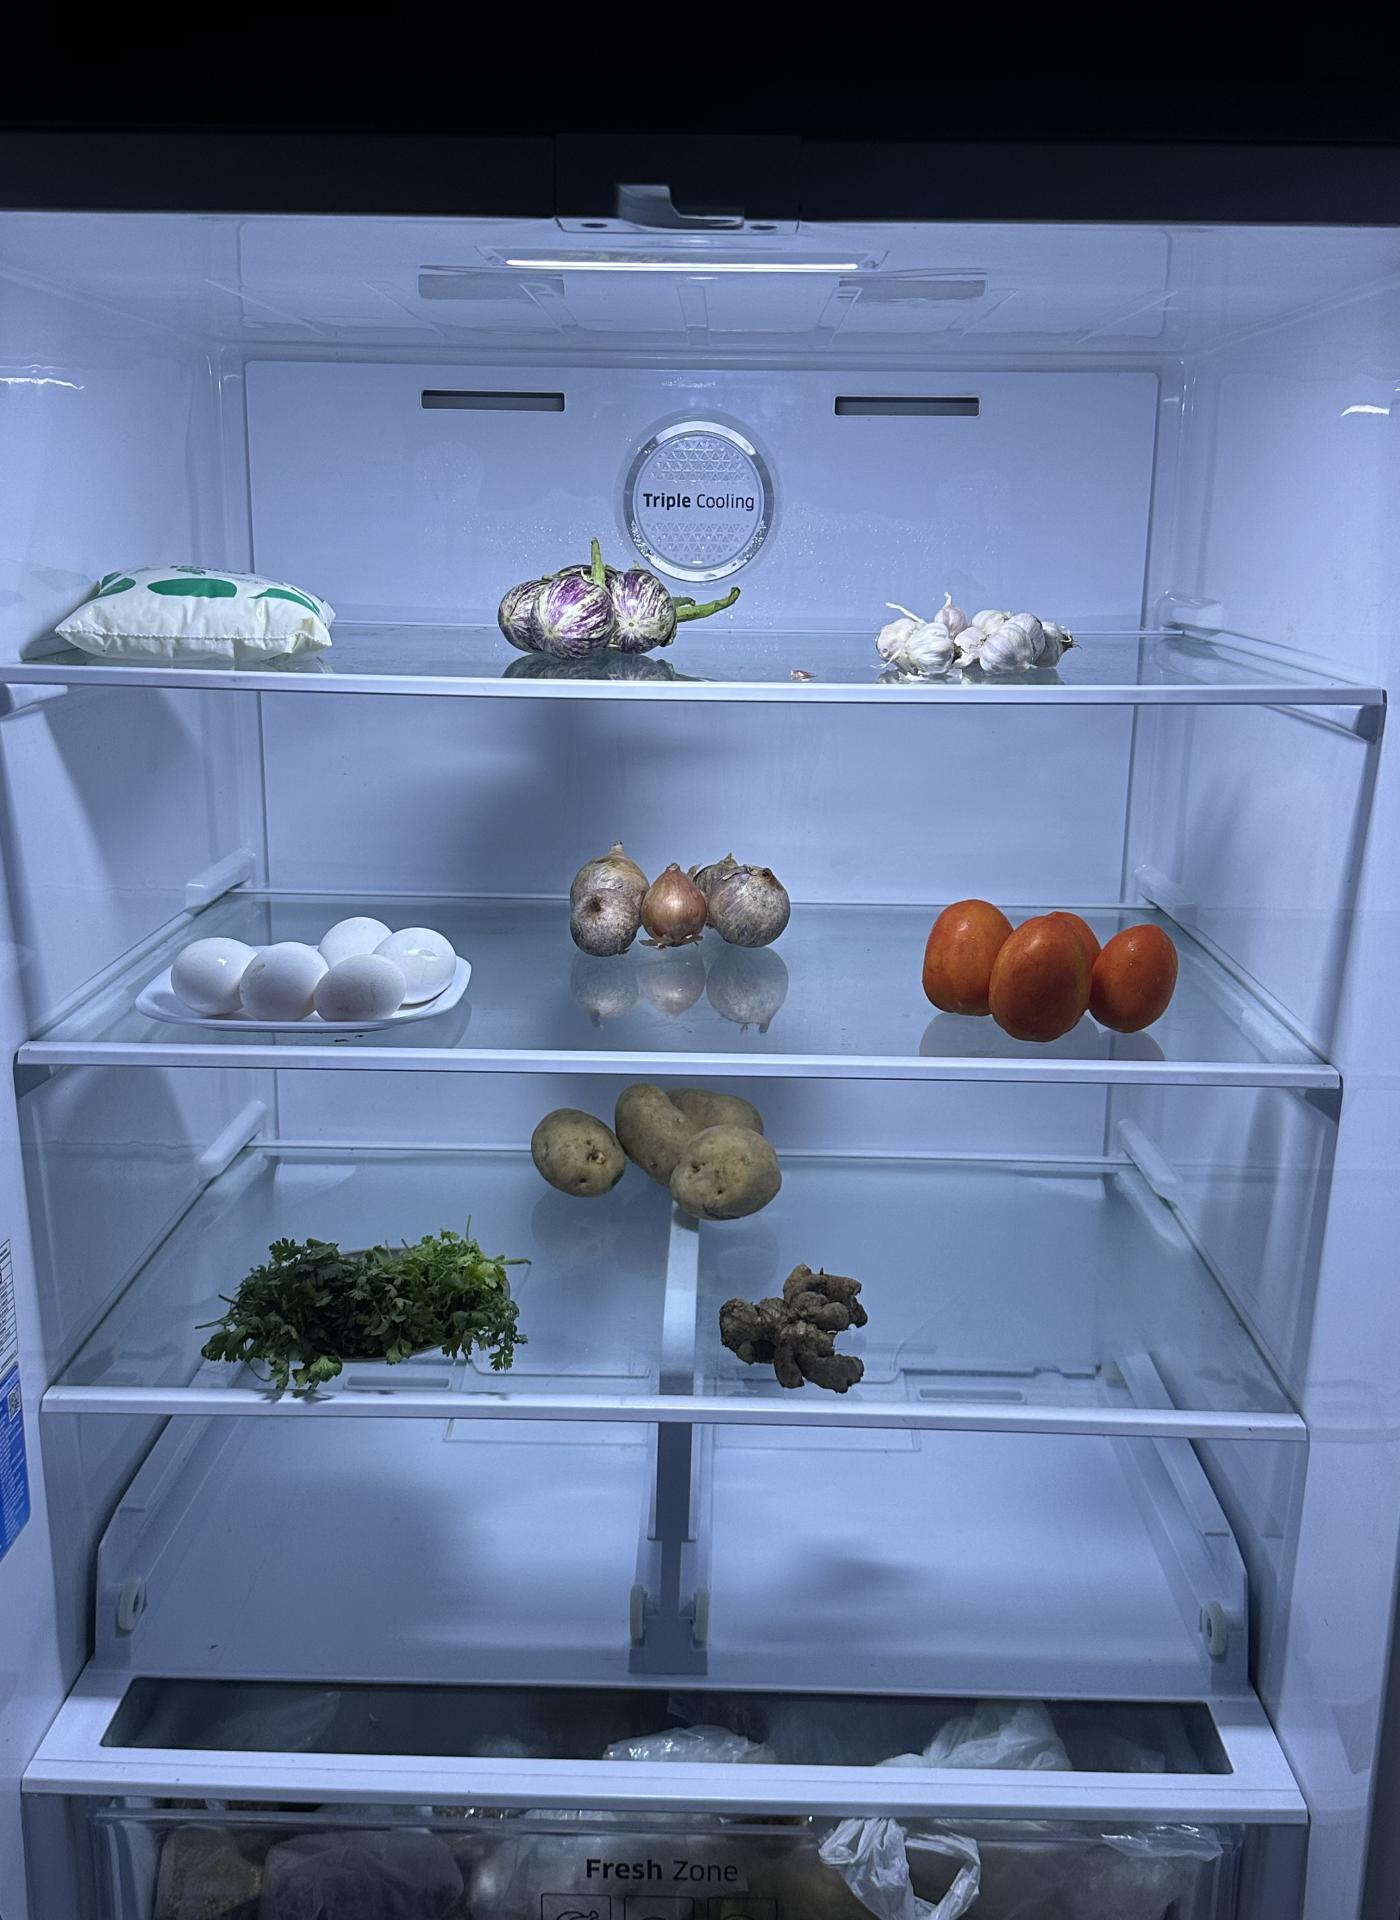brinjal: (494, 553, 722, 672)
coriander: (215, 1219, 526, 1379)
egg: (165, 906, 465, 1026)
garlic: (871, 595, 1087, 677)
ginger: (711, 1255, 881, 1398)
milk: (57, 562, 335, 663)
onion: (567, 835, 804, 957)
potato: (523, 1072, 792, 1212)
tomato: (914, 882, 1185, 1042)
